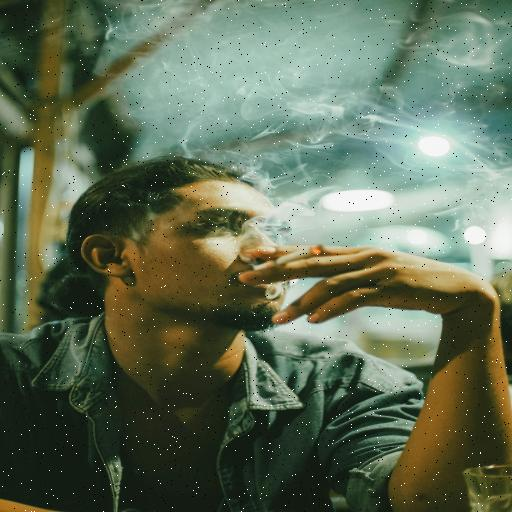pegang rokok: (228, 183, 354, 316)
